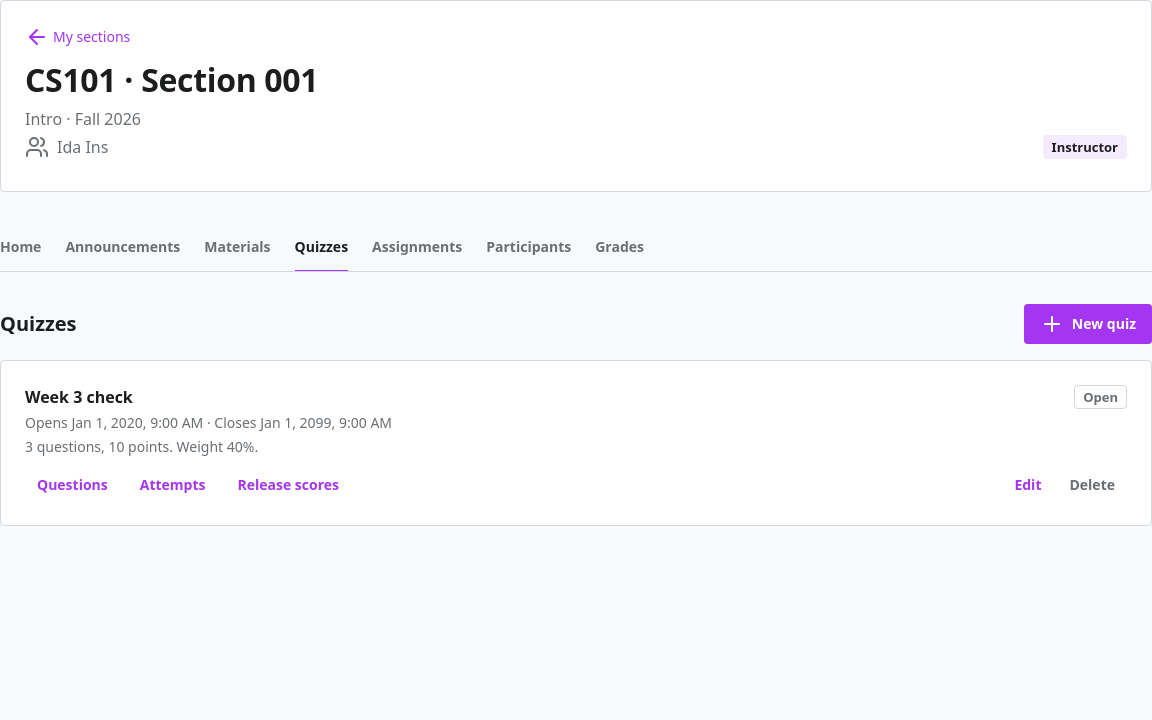
Test case: delete with no attempts says no student has started it
Click the button with aria-label "Delete Week 3 check": x=1092, y=485 1058,469 -> 1127,501
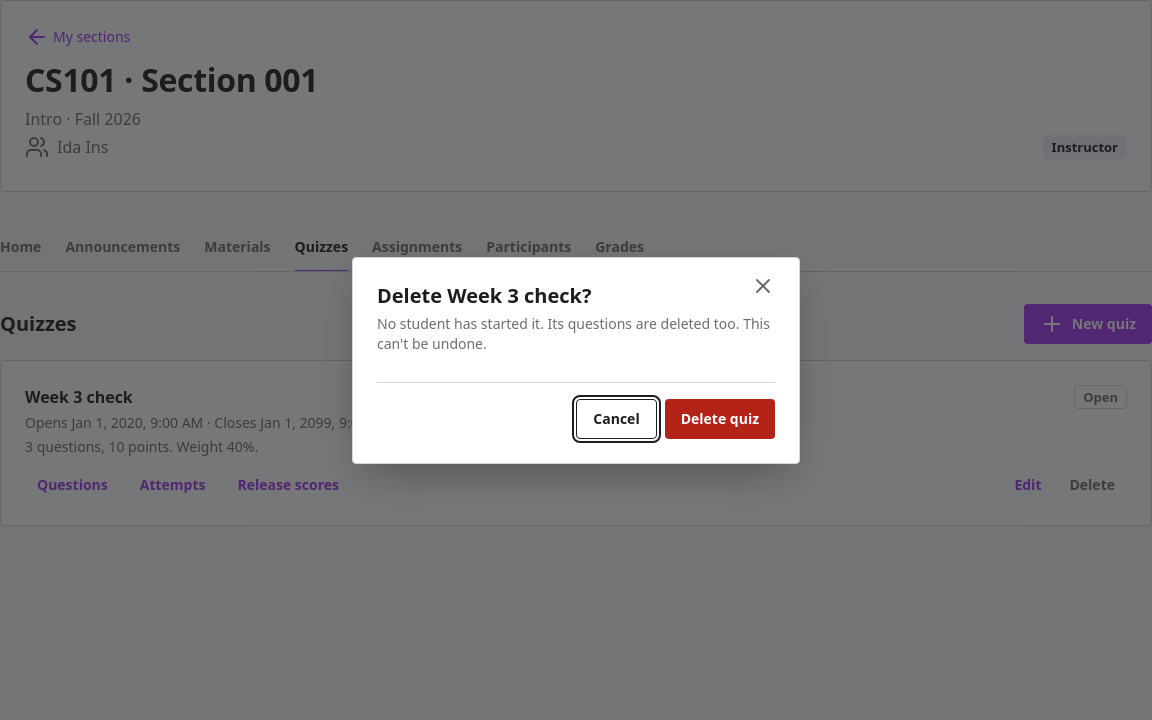
expect the text "No student has started it. Its questions are deleted too" is shown: met, box 377,314 -> 770,352
